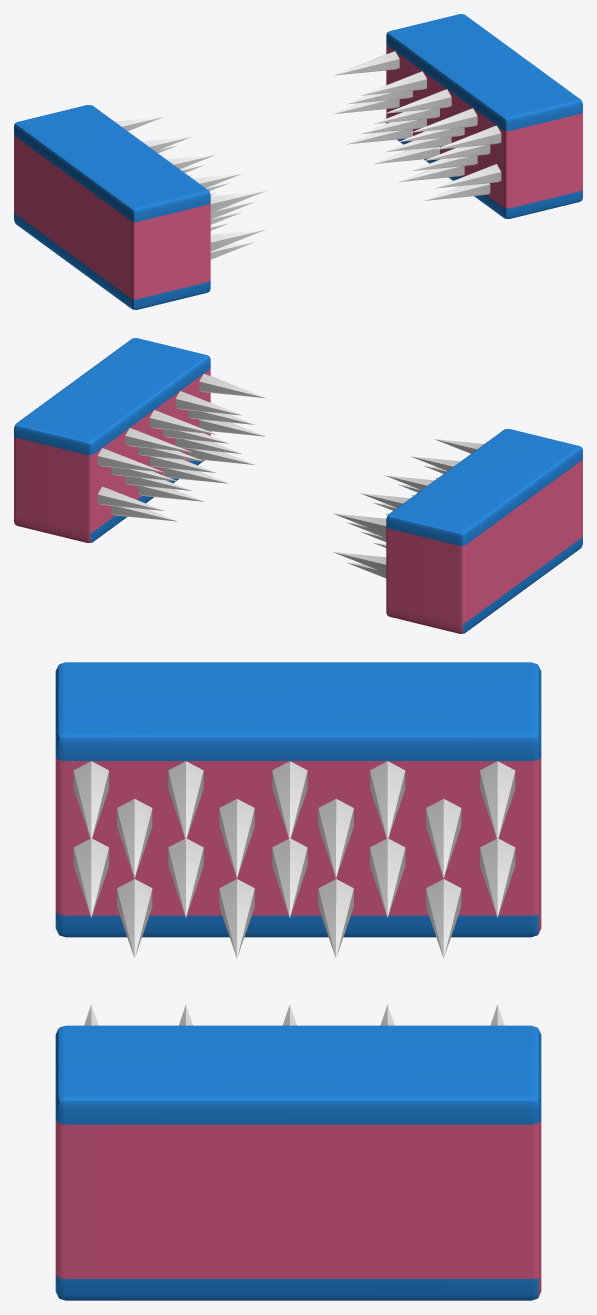
File: trap_10.fbx
3 renders of one model, top to bottom at view 1: azimuth 30°, elevation 25°; view 2: azimuth 150°, elevation 25°; view 3: azimuth 270°, elevation 25°, orthographic. The views are drawn at different scales.
Visible parts, largest first — view 1: trap_04_L, trap_04_R; view 2: trap_04_R, trap_04_L; view 3: trap_04_R, trap_04_L.
Part boxes in pixels (box(x1,y1,x2,y2)): trap_04_L: box(14, 105, 266, 309); trap_04_R: box(333, 14, 582, 218); trap_04_R: box(14, 338, 265, 542); trap_04_L: box(333, 429, 582, 633); trap_04_R: box(55, 1004, 541, 1300); trap_04_L: box(55, 662, 541, 958).
Size of the model in its own units: 1520 by 330 by 708.
